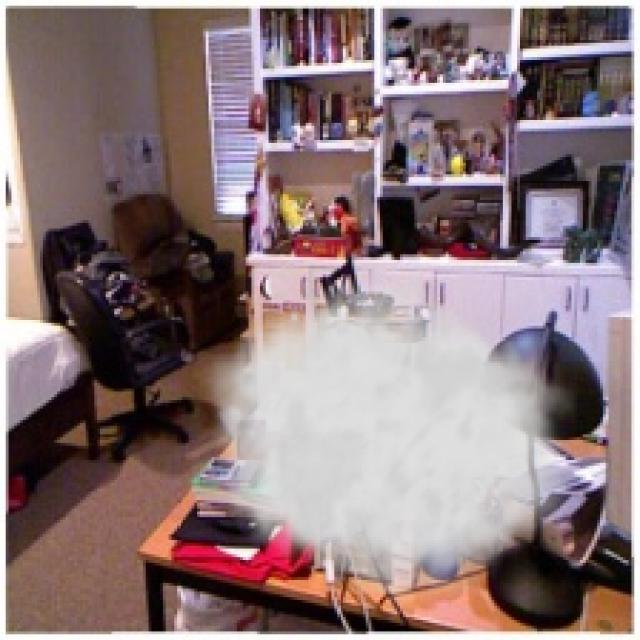smoke: (192, 269, 577, 614)
